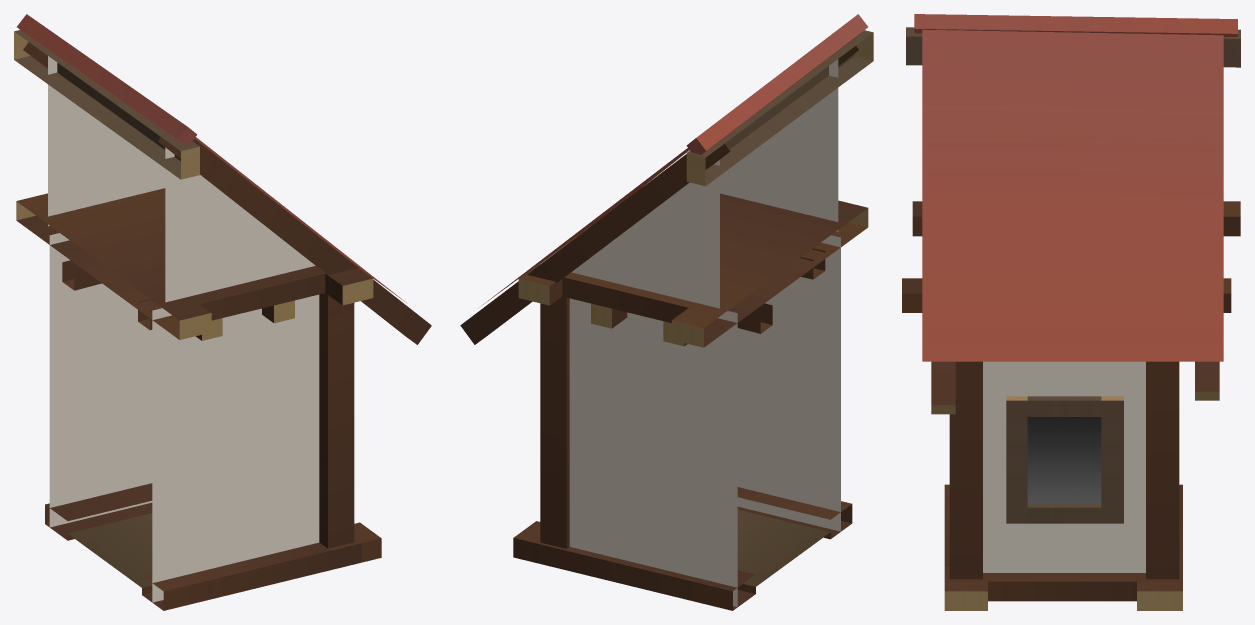
Rendered from House_Piece_3B_LOD1.fbx.
The picture shows the model from 3 angles, left to right: view 1: azimuth 30°, elevation 25°; view 2: azimuth 150°, elevation 25°; view 3: azimuth 270°, elevation 25°; orthographic projection.
Visible parts, largest first — view 1: polySurface9702; view 2: polySurface9702; view 3: polySurface9702.
Boxes of the visible parts, x1,y1,x2,y2 form: polySurface9702: (14, 14, 431, 610); polySurface9702: (460, 14, 873, 610); polySurface9702: (902, 14, 1240, 610).
Size of the model in its own units: 206 by 364 by 226.
